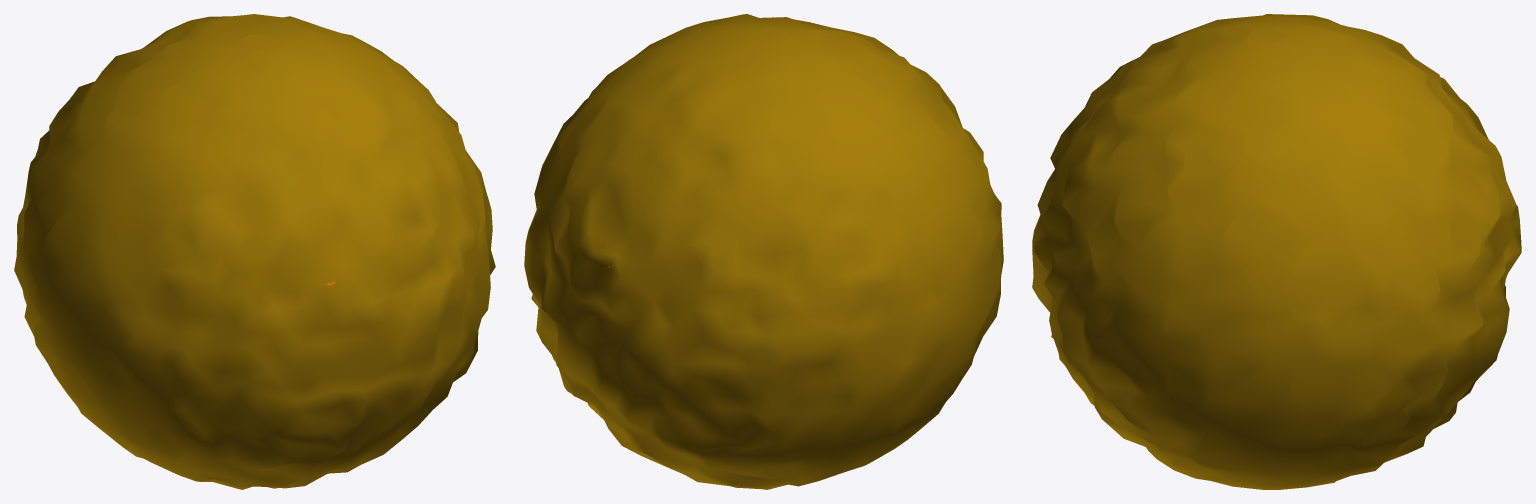
Rendered from sunanimated.fbx.
3 renders of one model, left to right at view 1: azimuth 30°, elevation 25°; view 2: azimuth 150°, elevation 25°; view 3: azimuth 270°, elevation 25°, orthographic.
Parts seen in each view (by area): view 1: GeoSphere002; view 2: GeoSphere002; view 3: GeoSphere002.
Boxes of the visible parts, x1,y1,x2,y2 form: GeoSphere002: (14, 14, 495, 489); GeoSphere002: (524, 14, 1003, 489); GeoSphere002: (1032, 14, 1521, 489).
Size of the model in its own units: 98.68 by 101 by 98.02.
Materials: 2 (1 with a texture image).
